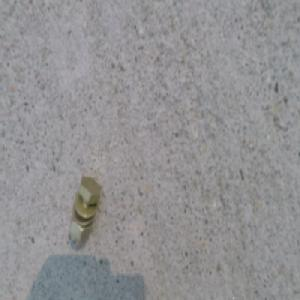BoltNutSet: (66, 171, 99, 243)
